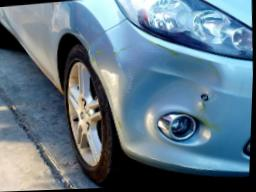Bumper: (89, 22, 247, 174)
